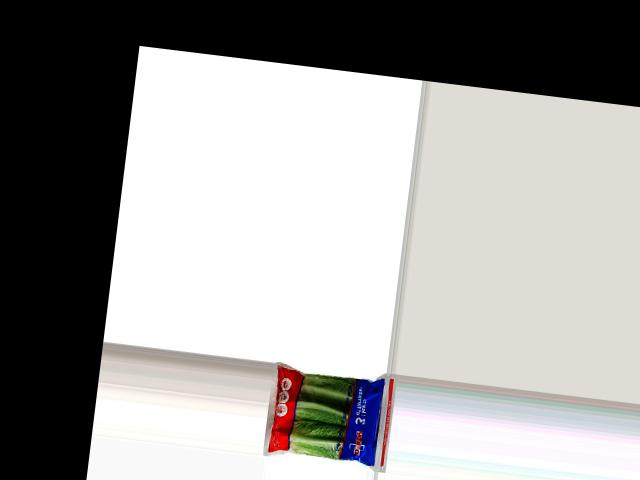lettuce: (262, 364, 390, 471)
